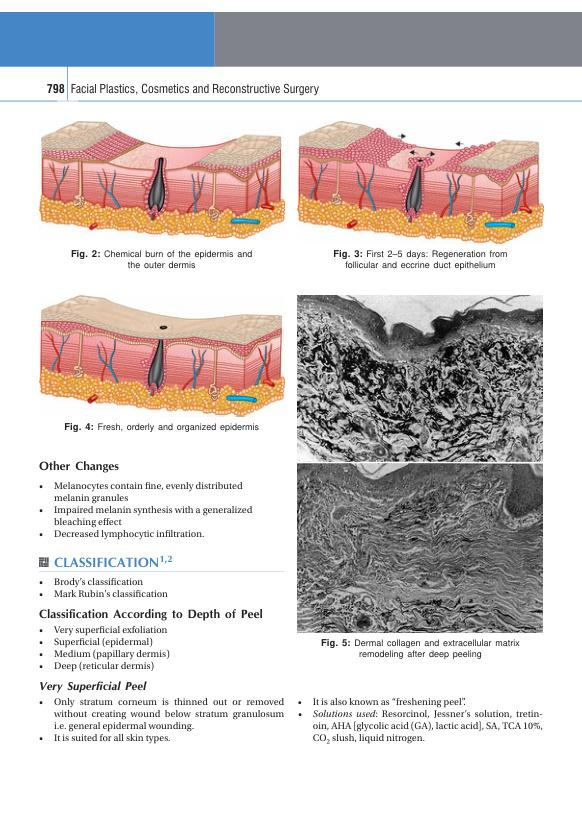caption: (320, 638, 521, 661), (68, 247, 254, 270), (332, 248, 509, 271), (63, 421, 260, 433)
header: (69, 81, 320, 97)
image: (296, 463, 543, 634), (296, 293, 544, 462), (292, 115, 549, 247), (34, 289, 291, 420), (35, 115, 290, 245)
list: (37, 480, 254, 542), (296, 695, 545, 747), (38, 696, 286, 746), (37, 624, 172, 673), (37, 576, 170, 599)
section-heading: (52, 554, 174, 569)
sub-section-heading: (37, 606, 264, 622), (38, 679, 148, 694), (38, 459, 120, 474)
